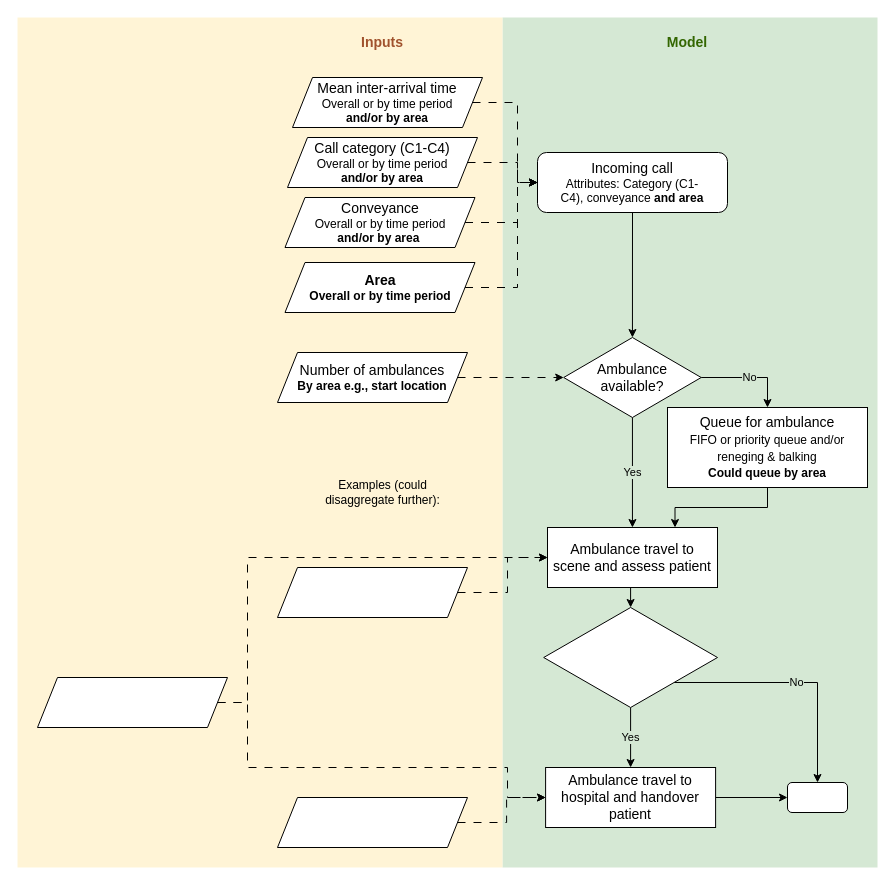
Image size: 894x884. Some labels were removed from this diagram. The centre of each missing label's shape, as x and y in pixels:
Does patient need conveyance?: point (630, 657)
End: point (817, 797)
Information used to estimate travel times: point (132, 702)
Mean time at hospital By call category: point (372, 822)
Mean time on scene By call category: point (372, 592)
